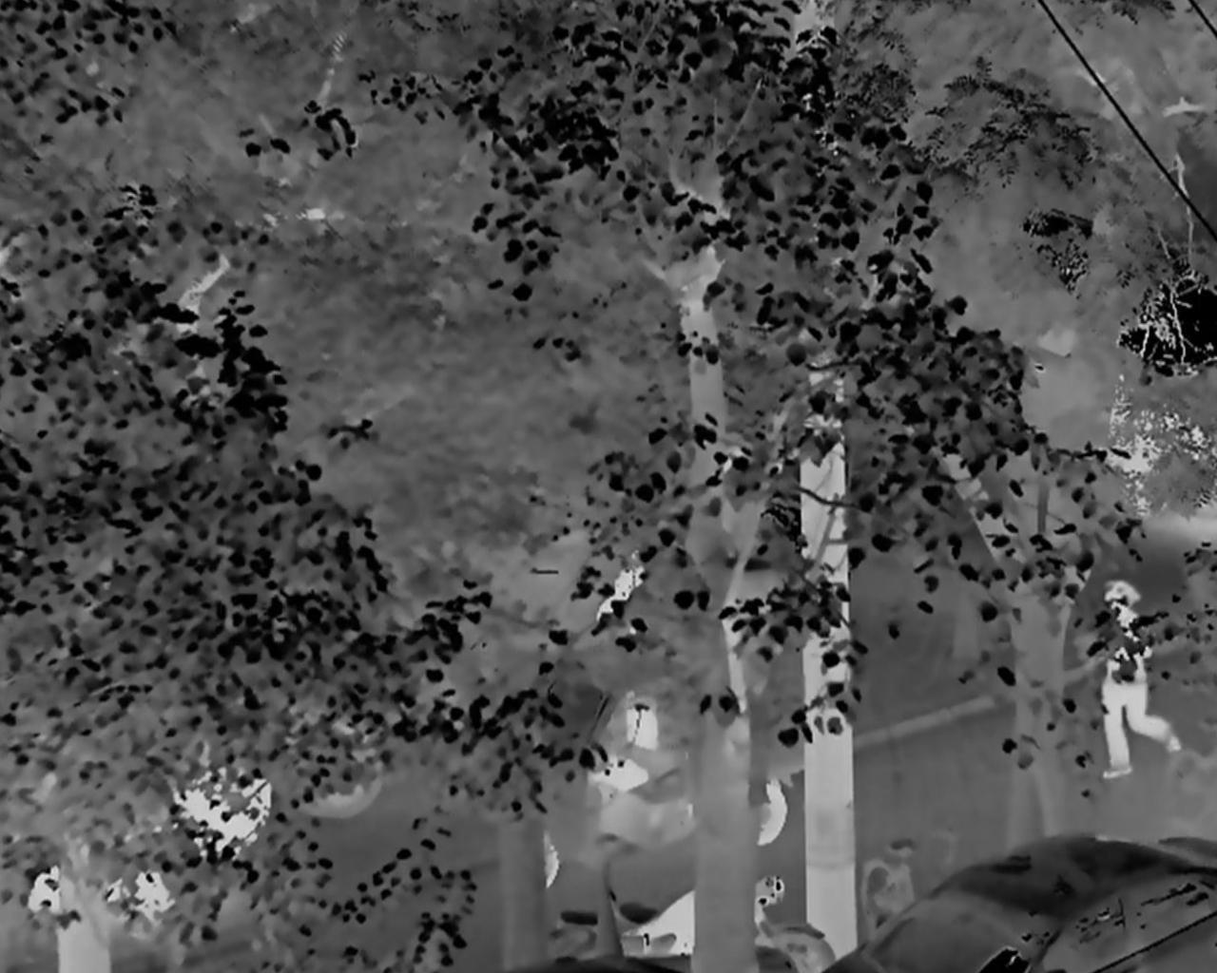person: (1088, 579, 1181, 781)
